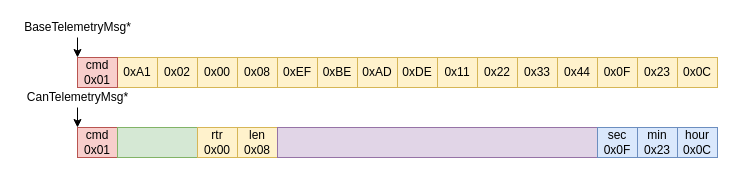
The diagram is 735 pixels wide and 175 high, and some of its shapes have lost their labels. The shapes that lost their labels are listed below. From the top down, each one's centre as x and y in pixels, then its label:
(x=157, y=142): id 0x02A1
(x=437, y=142): data64 0x44332211DEADBEEF
